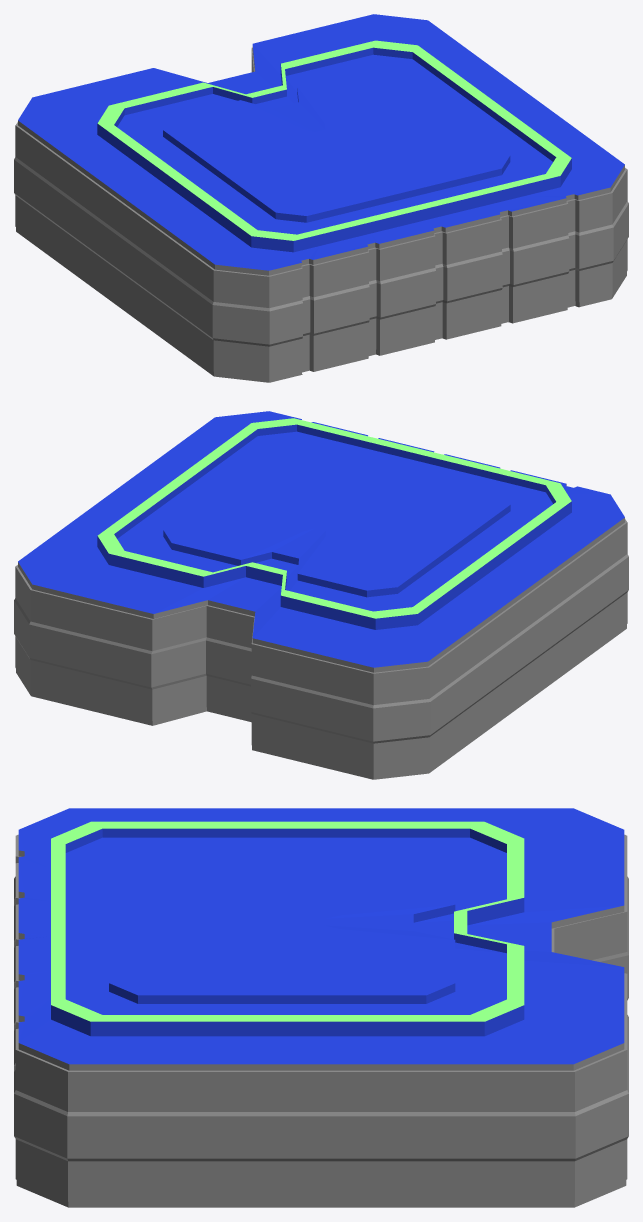
The model's file is Room1-1.FBX.
The picture shows the model from 3 angles, top to bottom: view 1: azimuth 30°, elevation 25°; view 2: azimuth 150°, elevation 25°; view 3: azimuth 270°, elevation 25°; orthographic projection. The views are drawn at different scales.
Parts seen in each view (by area): view 1: Walls, Walls001; view 2: Walls, Walls001; view 3: Walls, Walls001.
Boxes of the visible parts, left/top/right/bottom form: Walls: left=18, top=14, right=624, bottom=270; Walls001: left=14, top=47, right=628, bottom=382; Walls: left=18, top=411, right=624, bottom=667; Walls001: left=14, top=484, right=628, bottom=779; Walls: left=18, top=808, right=624, bottom=1064; Walls001: left=14, top=834, right=628, bottom=1207.
Bounding box in the file's own units: 294 × 82.7 × 294.
